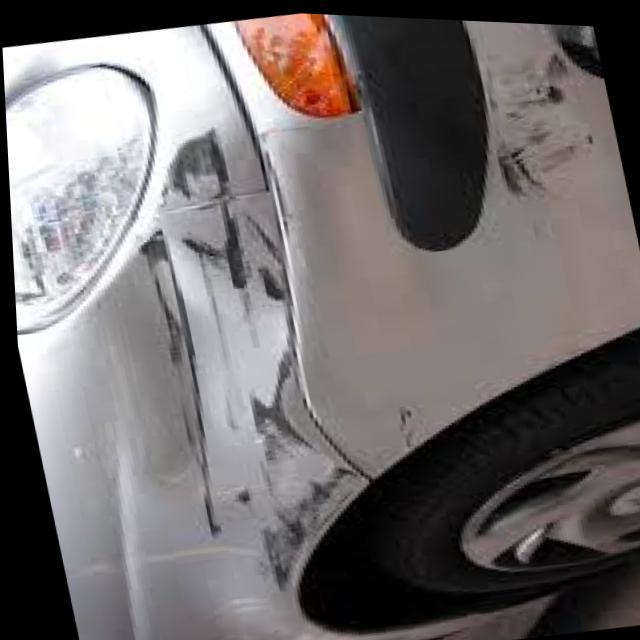Scratch: (143, 122, 371, 578), (485, 29, 601, 190)
